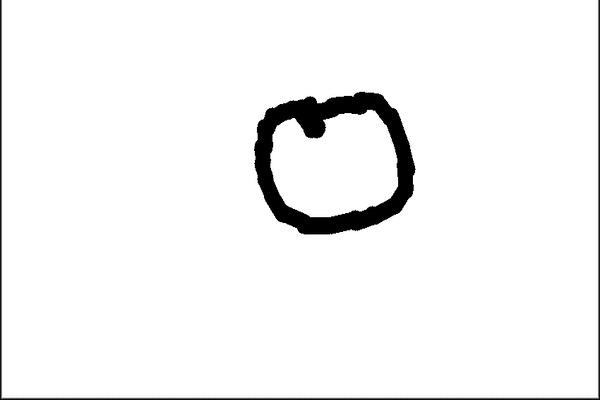O: (241, 84, 419, 236)
